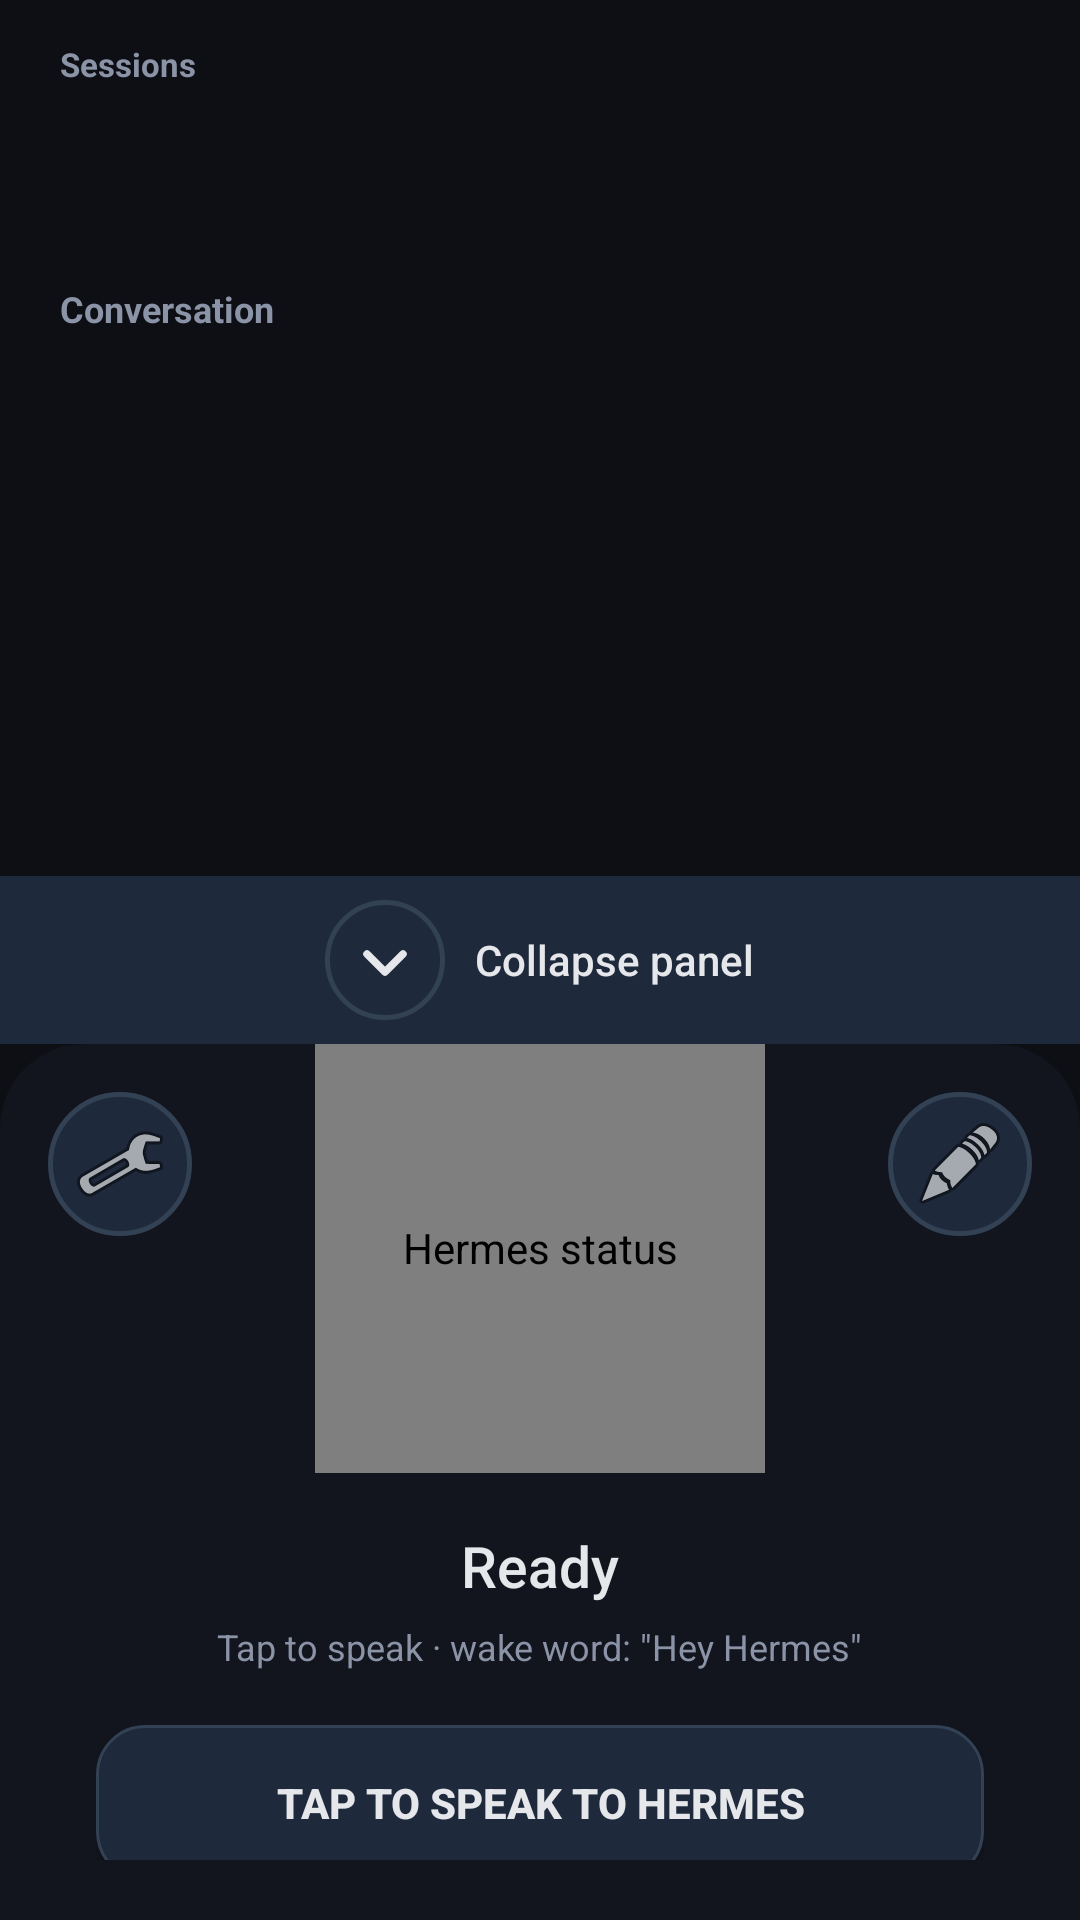

Locate icon controls on the screen. Image size 1080 x 1920, boxes as (x1, y1, x2, y2).
Collapse / expand assistant panel: (325, 900, 445, 1020)
Settings: (48, 1092, 192, 1236)
Type a message: (888, 1092, 1032, 1236)
